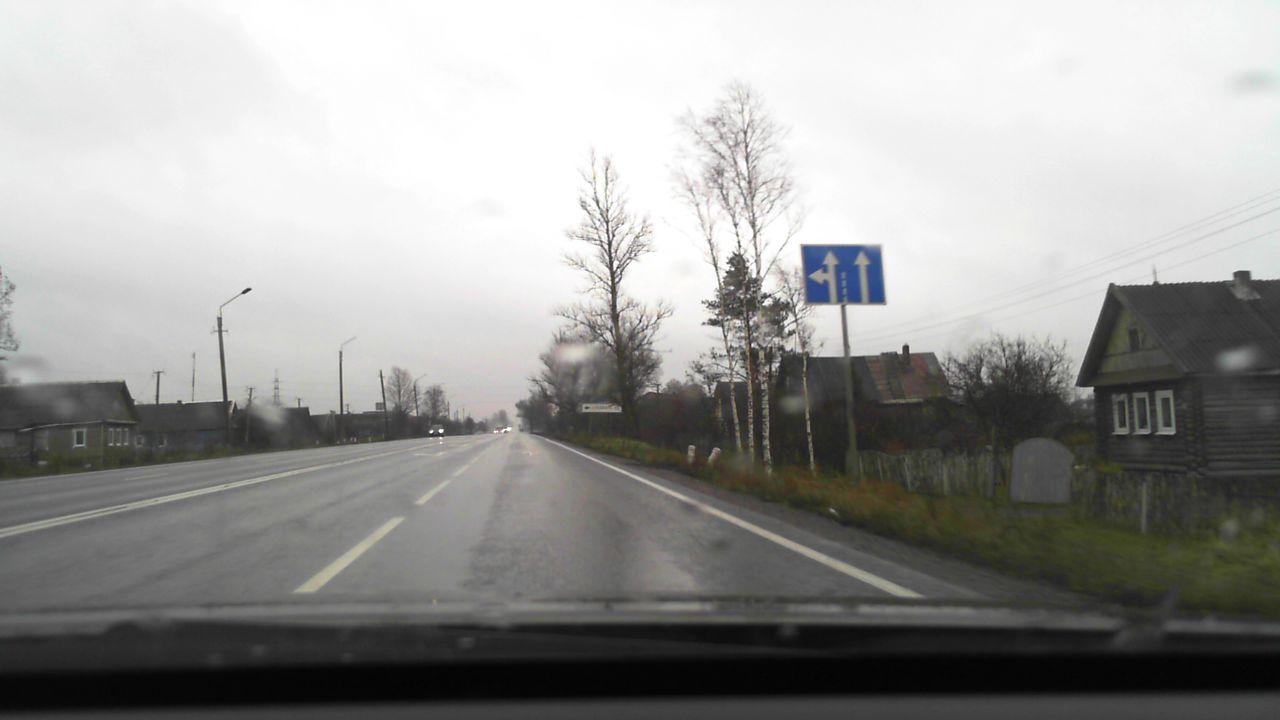5_15_1: (800, 244, 885, 305)
